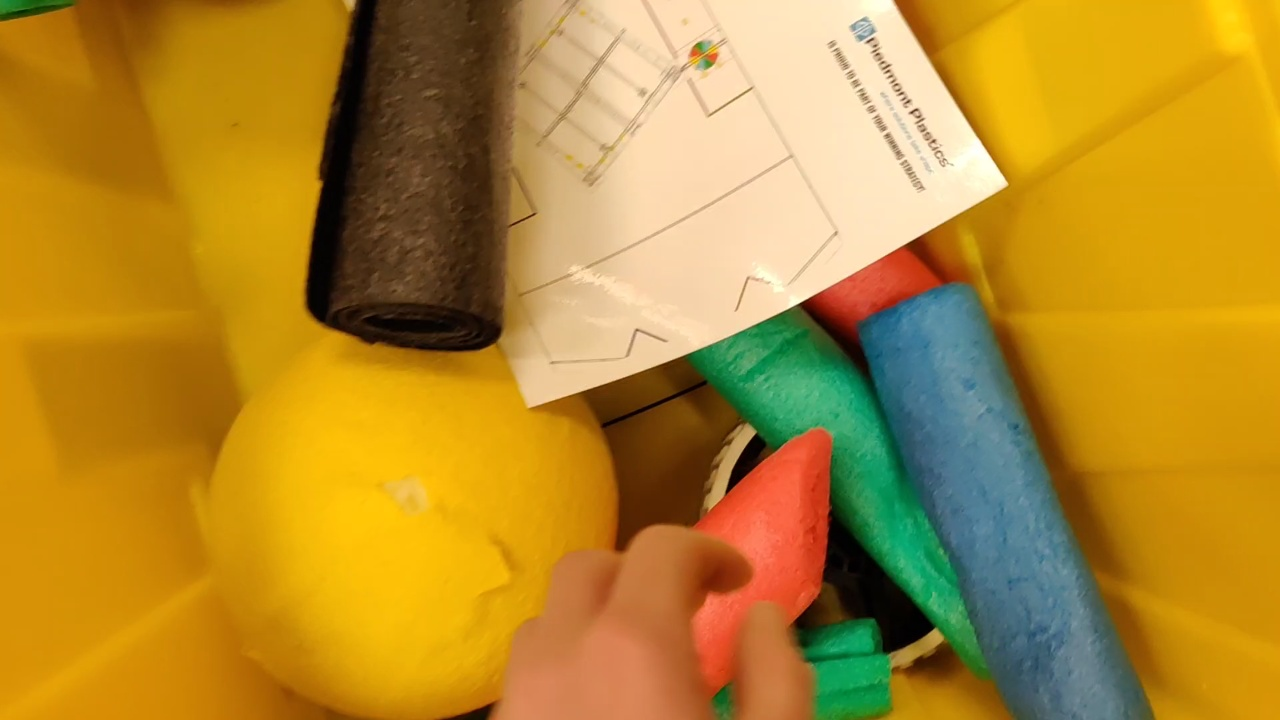Ball: (204, 315, 619, 720)
